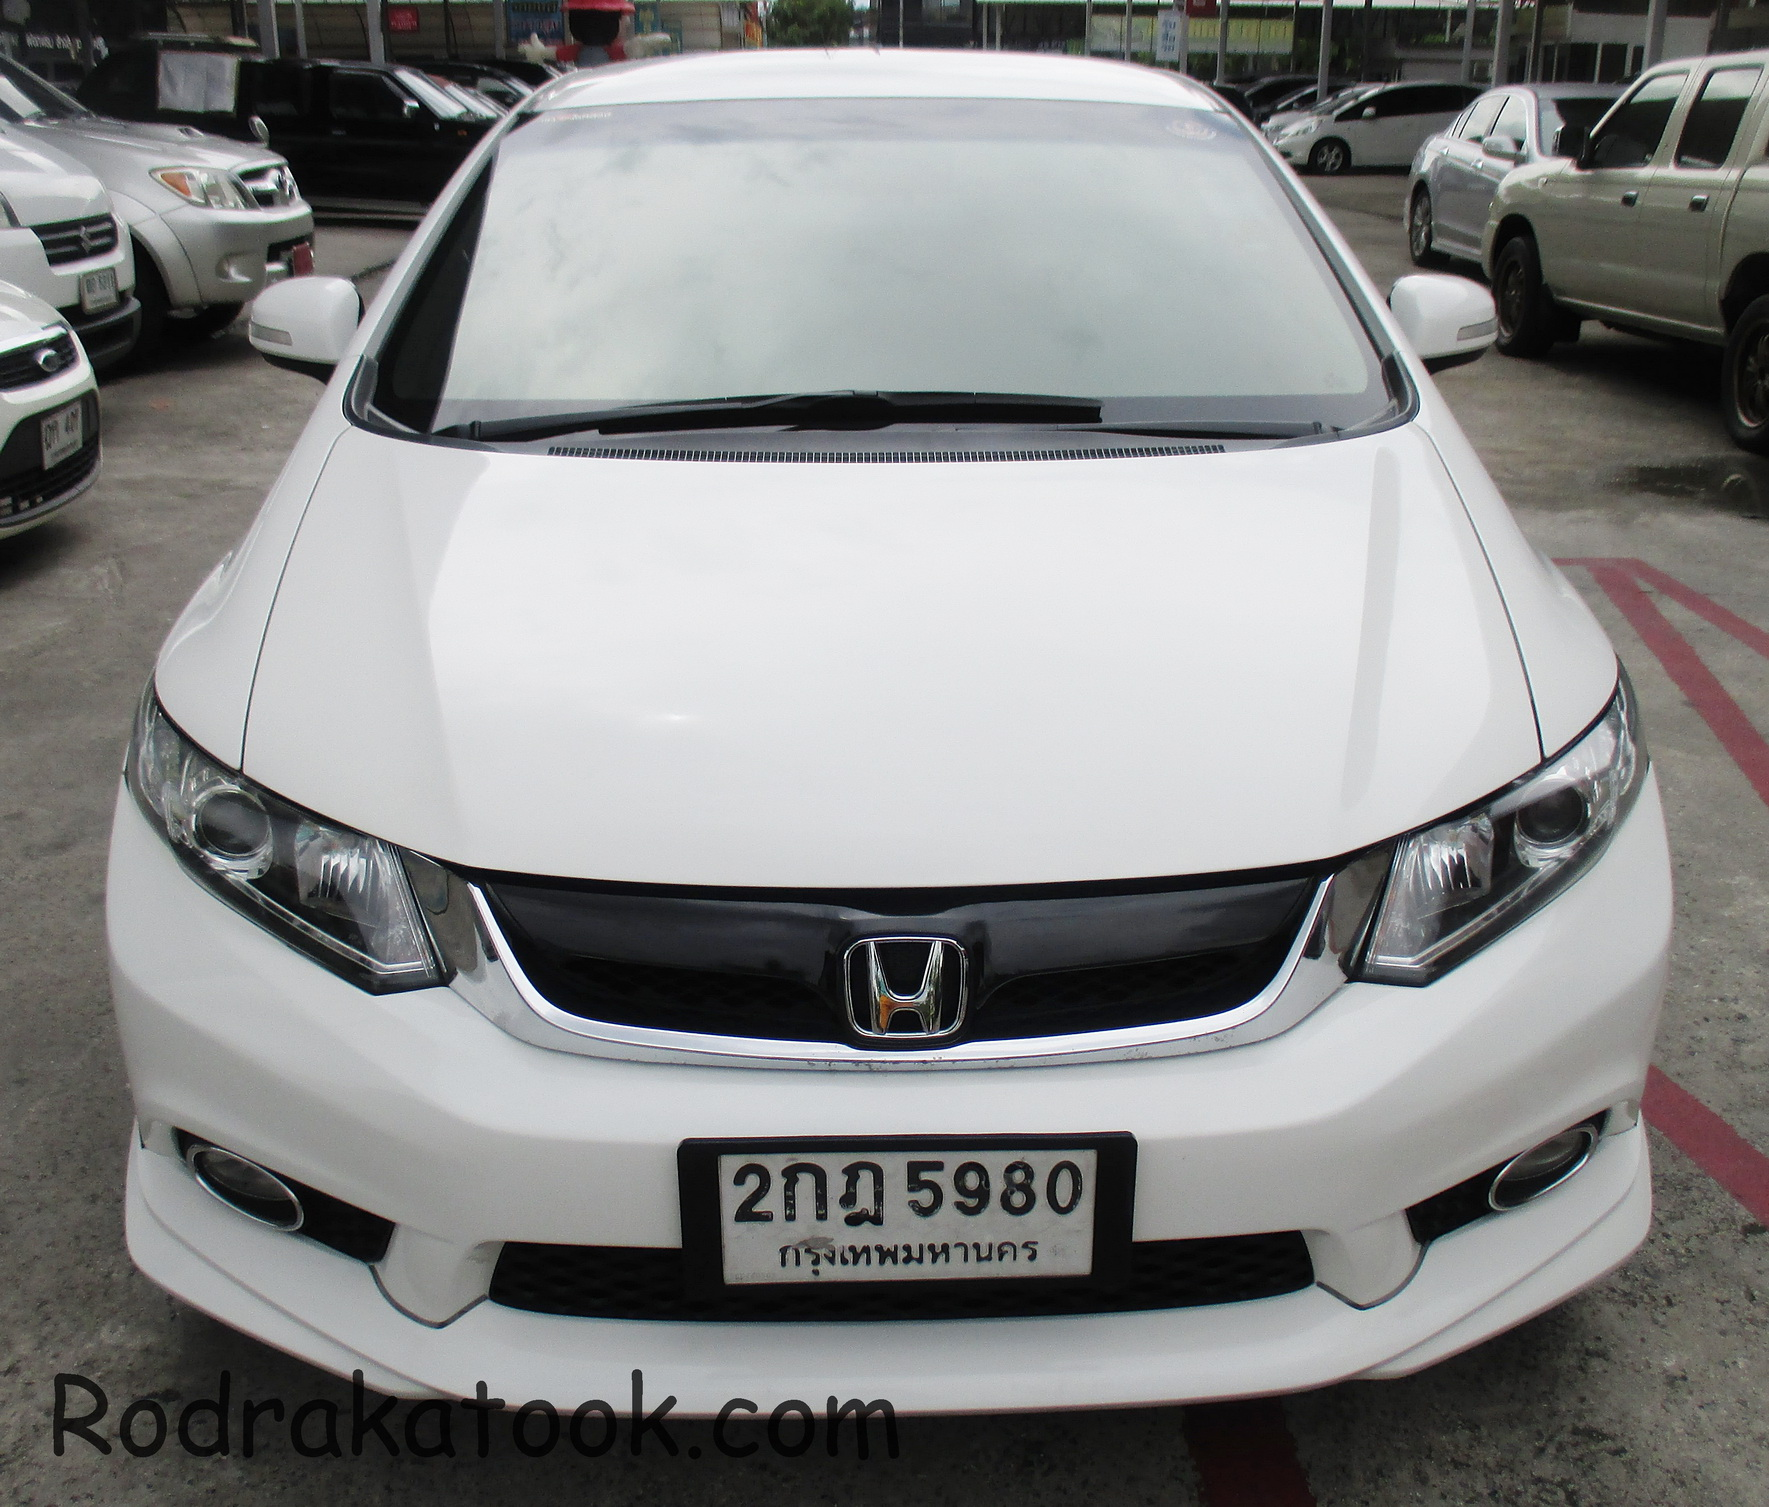sedan: (114, 40, 1676, 1417)
